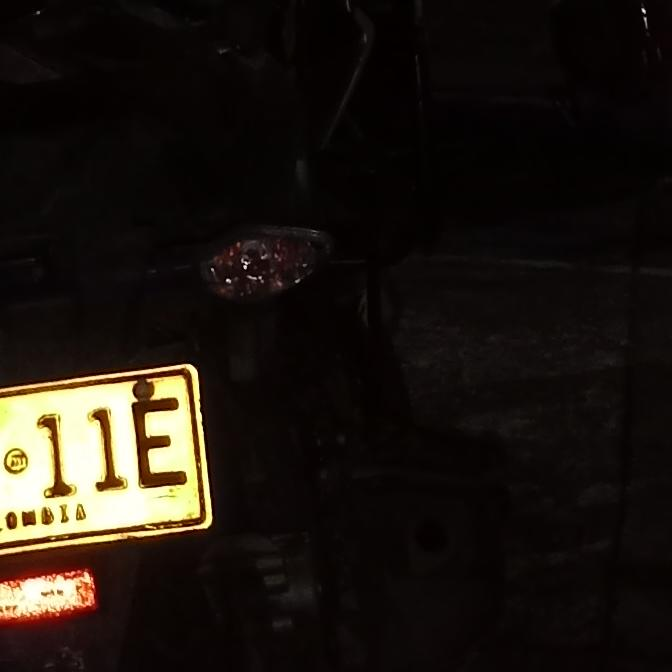plates: (0, 354, 210, 566)
